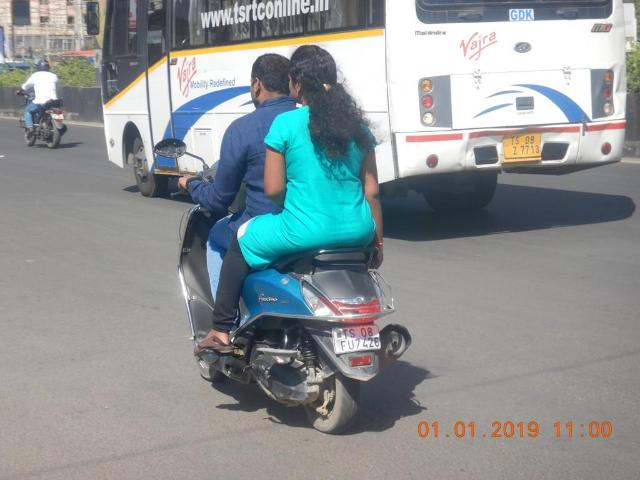helm: (38, 61, 50, 73)
motor: (177, 175, 412, 434), (21, 93, 67, 149)
non-helm: (289, 46, 337, 104), (252, 55, 292, 108)
